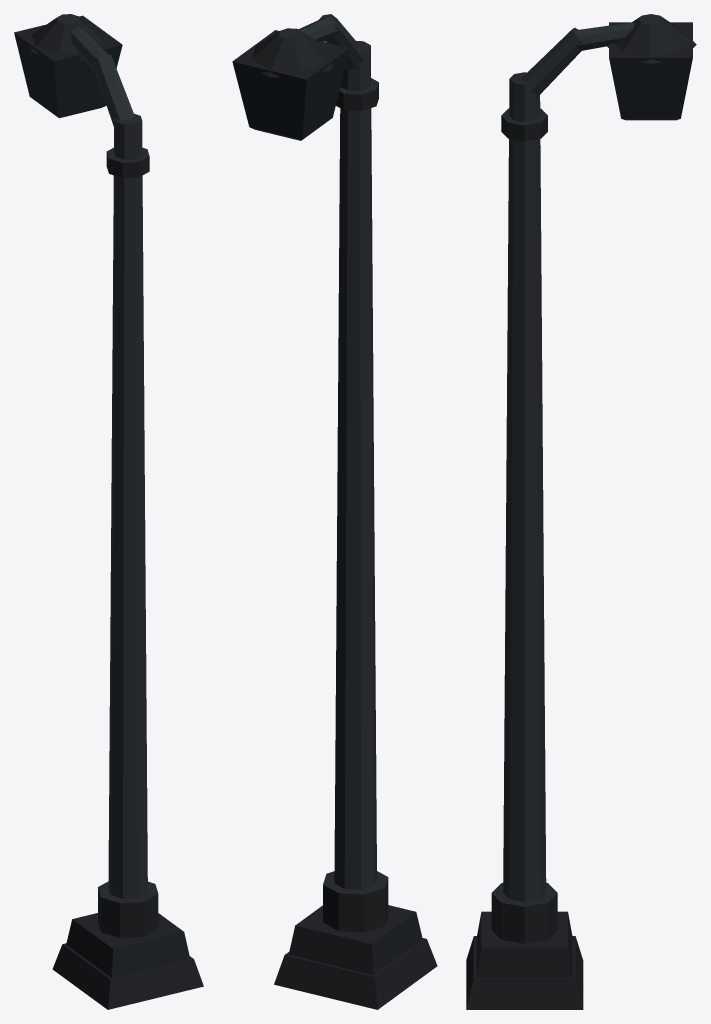
The model's file is lp_alley_lamp.glb.
3 renders of one model, left to right at view 1: azimuth 30°, elevation 25°; view 2: azimuth 150°, elevation 25°; view 3: azimuth 270°, elevation 25°, orthographic. The views are drawn at different scales.
Parts seen in each view (by area): view 1: lp_alley_lamp; view 2: lp_alley_lamp; view 3: lp_alley_lamp.
Part boxes in pixels (bbox=[...]): lp_alley_lamp: bbox=[14, 14, 203, 1009]; lp_alley_lamp: bbox=[232, 14, 437, 1009]; lp_alley_lamp: bbox=[466, 14, 696, 1009].
Bounding box in the file's own units: 0.46 × 4.19 × 0.9062.
1 material, 1 textured.
